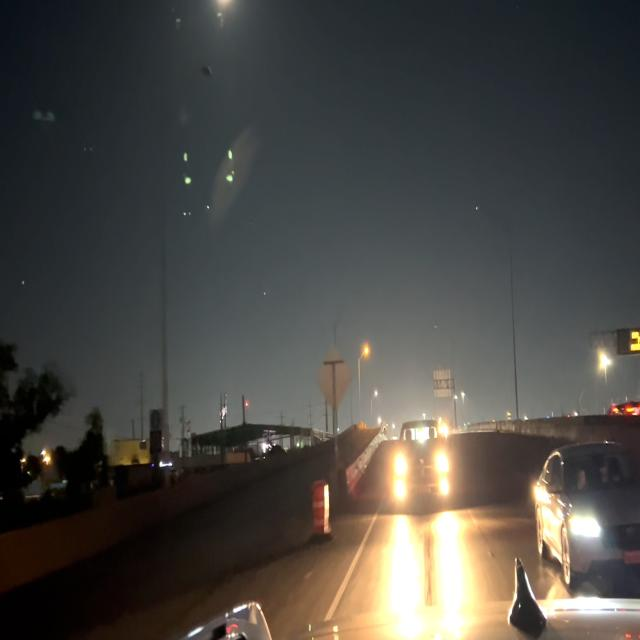back-of-sign: (319, 349, 349, 406)
